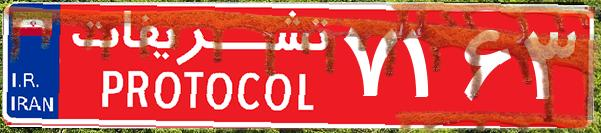1: (400, 20, 460, 115)
3: (520, 20, 580, 115)
6: (460, 20, 520, 115)
7: (340, 20, 400, 115)
تشریفات: (60, 8, 340, 125)
